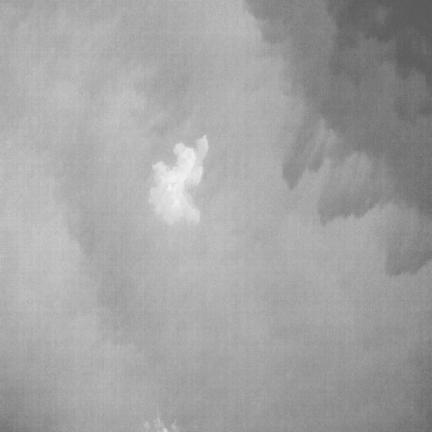flukeprints: (148, 135, 208, 224)
